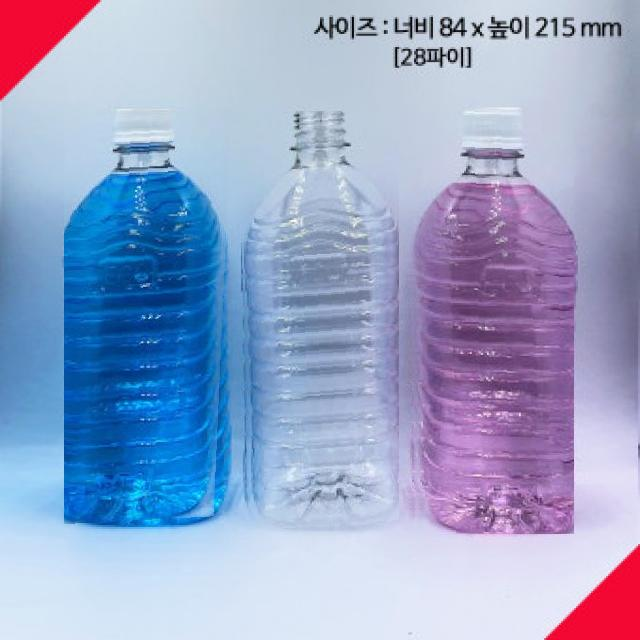plastic bottle: (406, 106, 574, 534), (64, 109, 232, 525), (239, 111, 399, 531)
